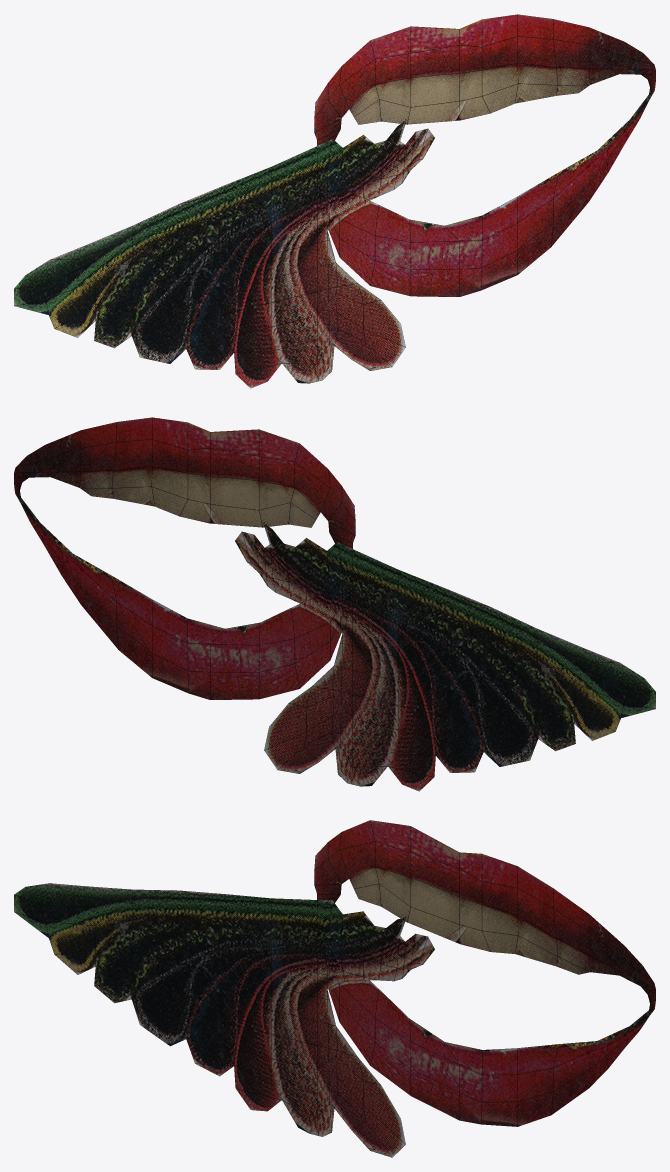
File: Lips_UV.fbx
3 views of the same model, one above another, from view 1: azimuth 30°, elevation 25°; view 2: azimuth 150°, elevation 25°; view 3: azimuth 330°, elevation 25° (orthographic).
Visible parts, largest first — view 1: pPlane5; view 2: pPlane5; view 3: pPlane5.
Part boxes in pixels (x1,y1,x2,y2): pPlane5: (14,14,655,388); pPlane5: (14,417,655,791); pPlane5: (14,820,655,1157).
Bounding box in the file's own units: 7.69 × 3.85 × 7.16e-16.
Materials: 1 (1 with a texture image).
